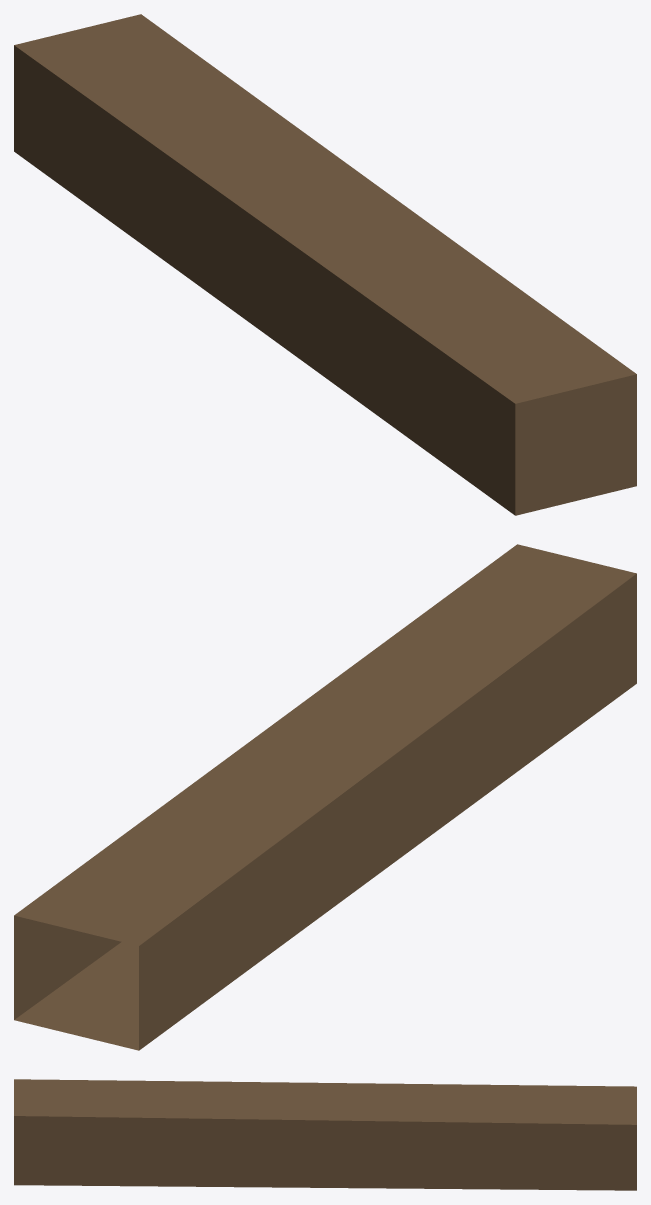
File: rpgpp_st_balcony_01_support_b.fbx
The picture shows the model from 3 angles, top to bottom: view 1: azimuth 30°, elevation 25°; view 2: azimuth 150°, elevation 25°; view 3: azimuth 270°, elevation 25°; orthographic projection. The views are drawn at different scales.
Visible parts, largest first — view 1: rpgpp_st_balcony_01_support_b; view 2: rpgpp_st_balcony_01_support_b; view 3: rpgpp_st_balcony_01_support_b.
Part boxes in pixels (x1,y1,x2,y2): rpgpp_st_balcony_01_support_b: [14, 14, 636, 515]; rpgpp_st_balcony_01_support_b: [14, 544, 636, 1050]; rpgpp_st_balcony_01_support_b: [14, 1079, 636, 1190].
Bounding box in the file's own units: 0.3194 × 0.2757 × 2.15.
